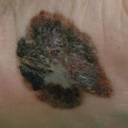Melanoma: (18, 17, 110, 100)
